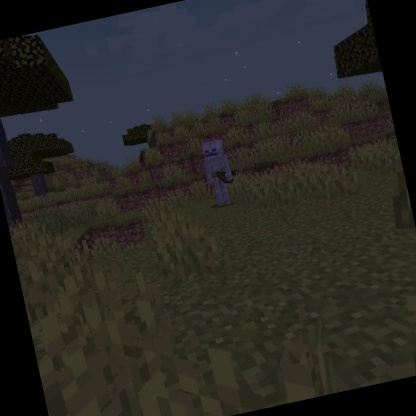skeleton: (194, 134, 244, 212)
